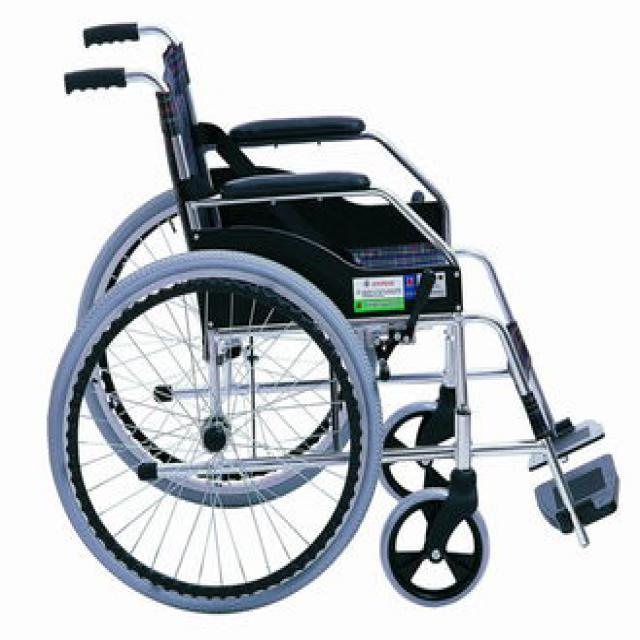wheelchair: (41, 9, 638, 614)
